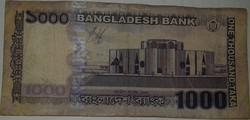1000 taka: (6, 2, 250, 120)
